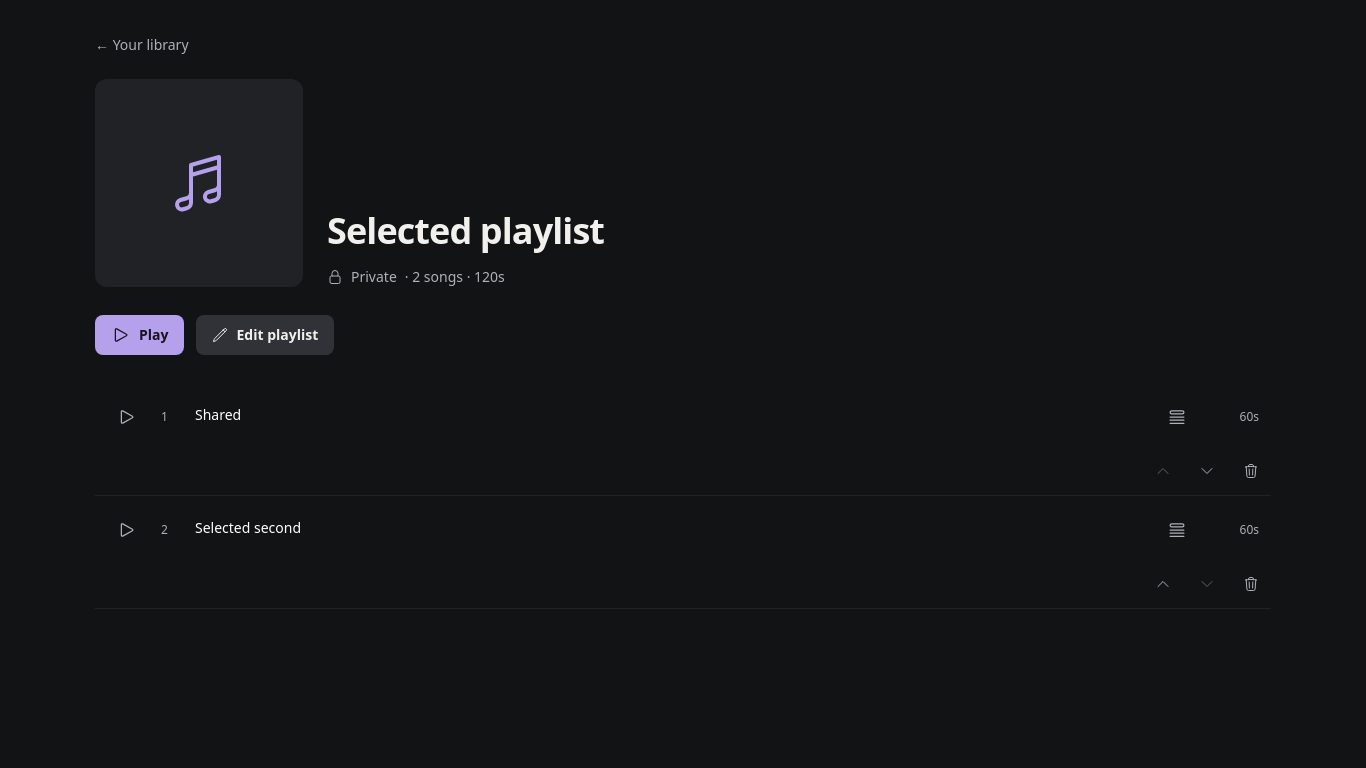
Test: playlist listening controls › retries removal undo when adding succeeded but restoring the order failed
The width and height of the screenshot is (1366, 768).
Click the button named "Remove Shared from playlist". click: {"x": 1251, "y": 471}
box: [1231,451,1271,491]
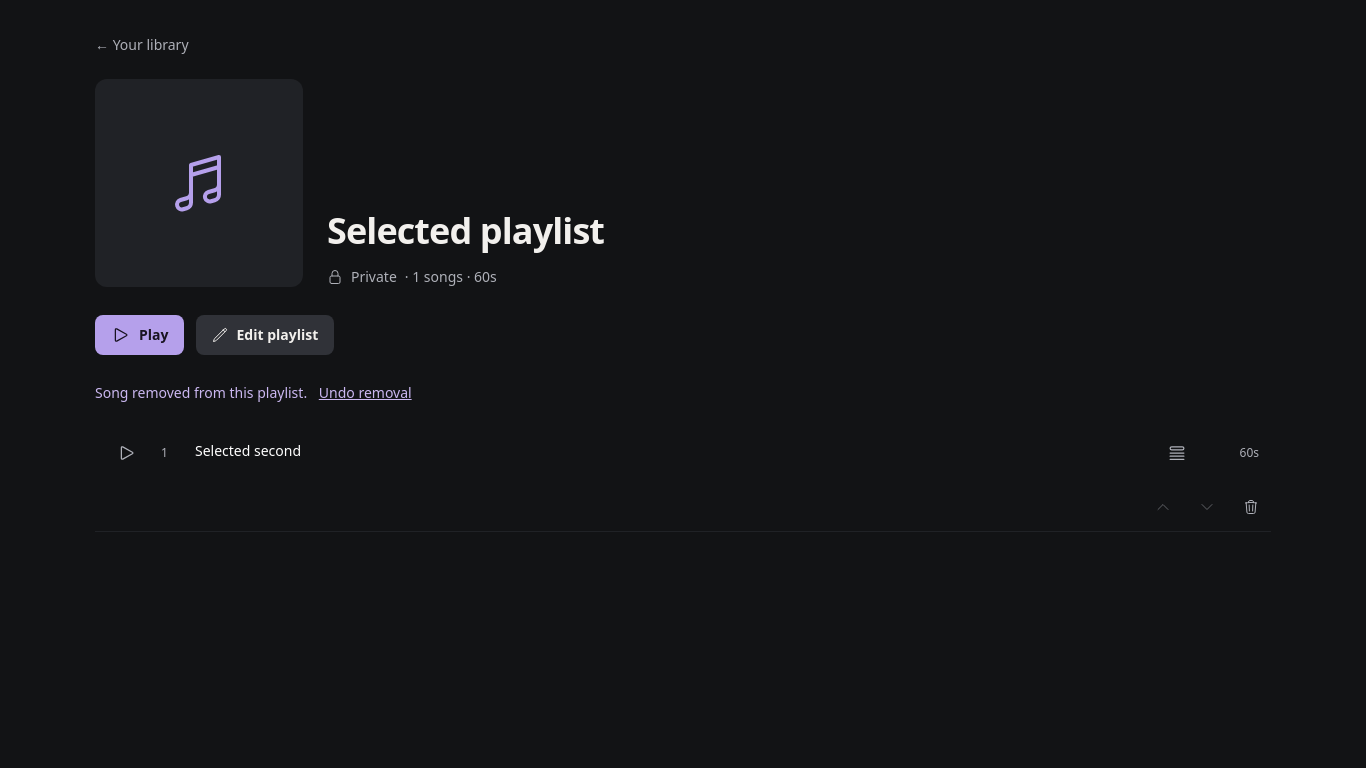
Result: the button "Undo removal" is enabled
Click the button "Undo removal". click: {"x": 365, "y": 393}
box: [319,383,412,403]
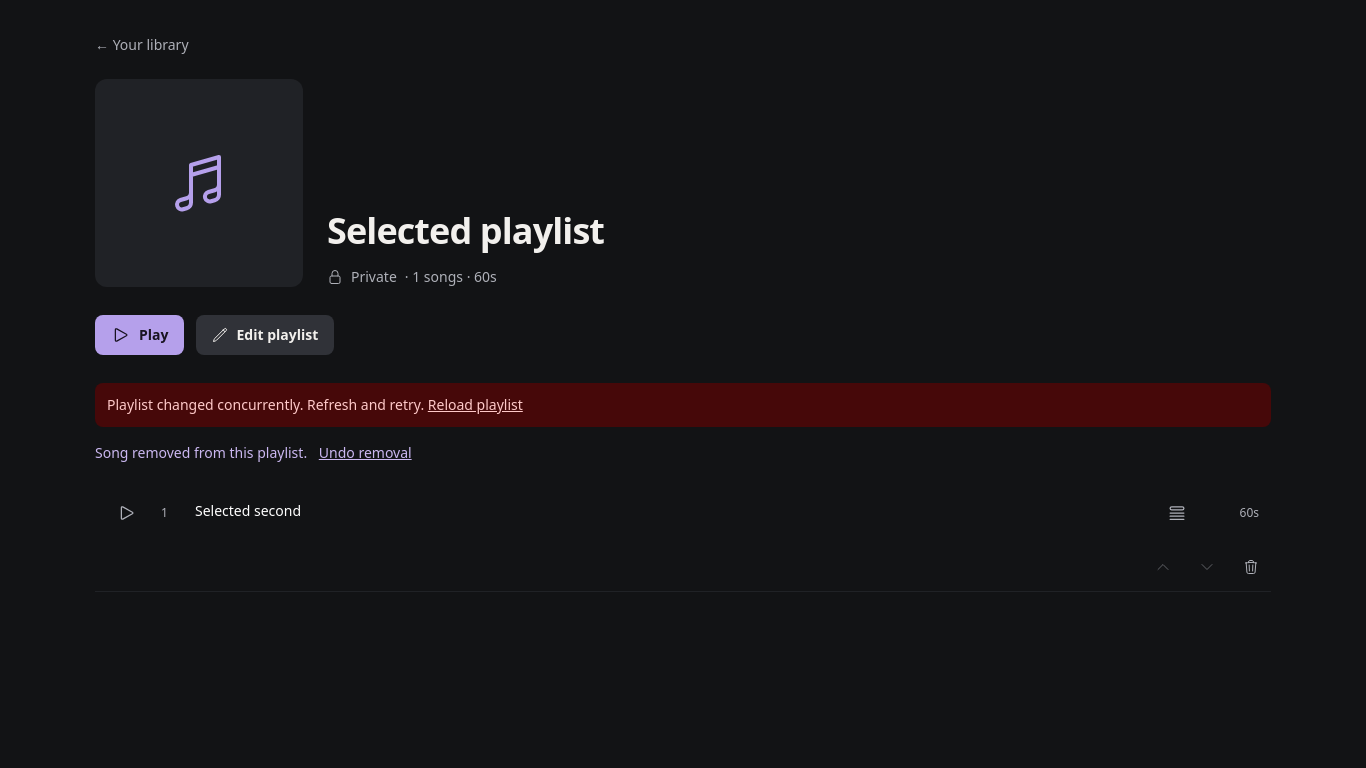
Result: the button "Undo removal" is enabled
Result: the text "Playlist changed concurrently. Refresh and retry. Reload playlist" is shown at [95,383,1271,427]
Click the button "Undo removal". click: {"x": 365, "y": 453}
box: [319,443,412,463]
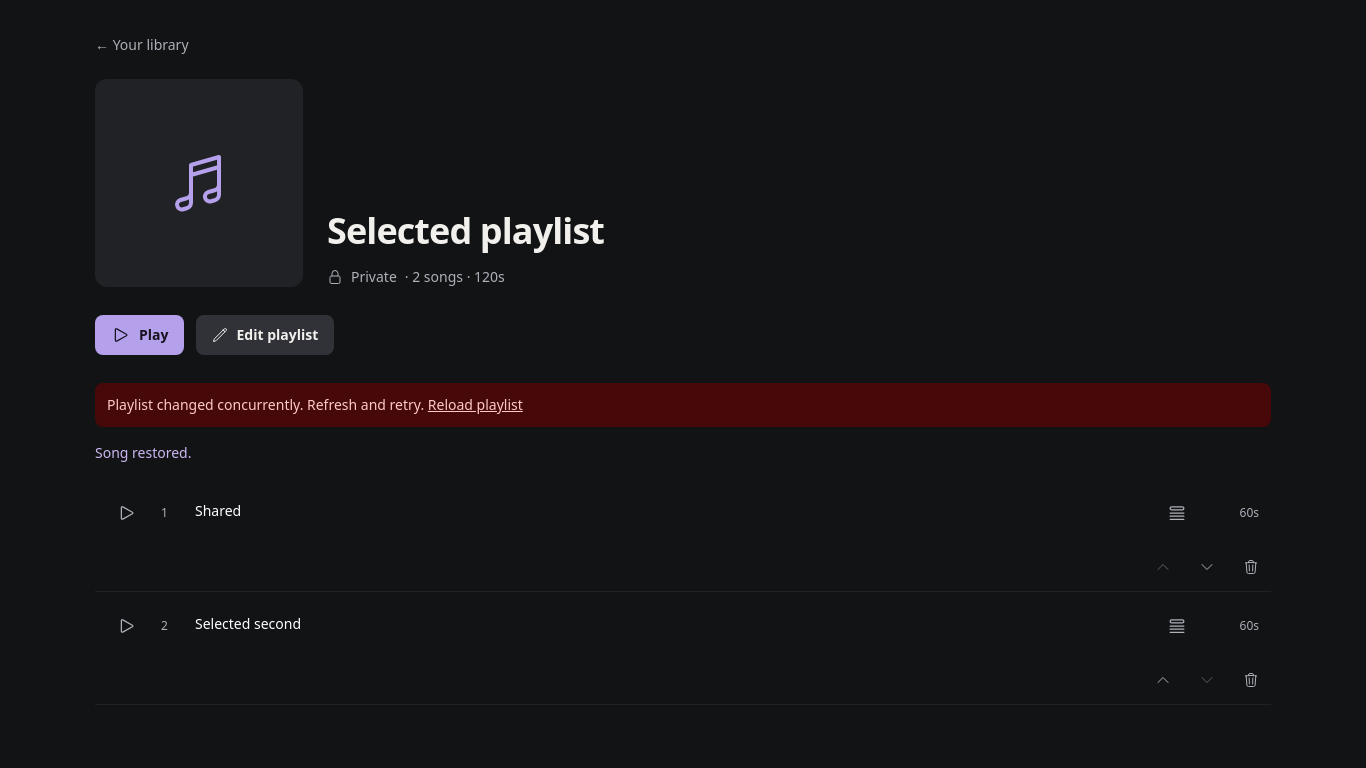
Result: the text "Song restored." is shown at [95,443,192,462]
